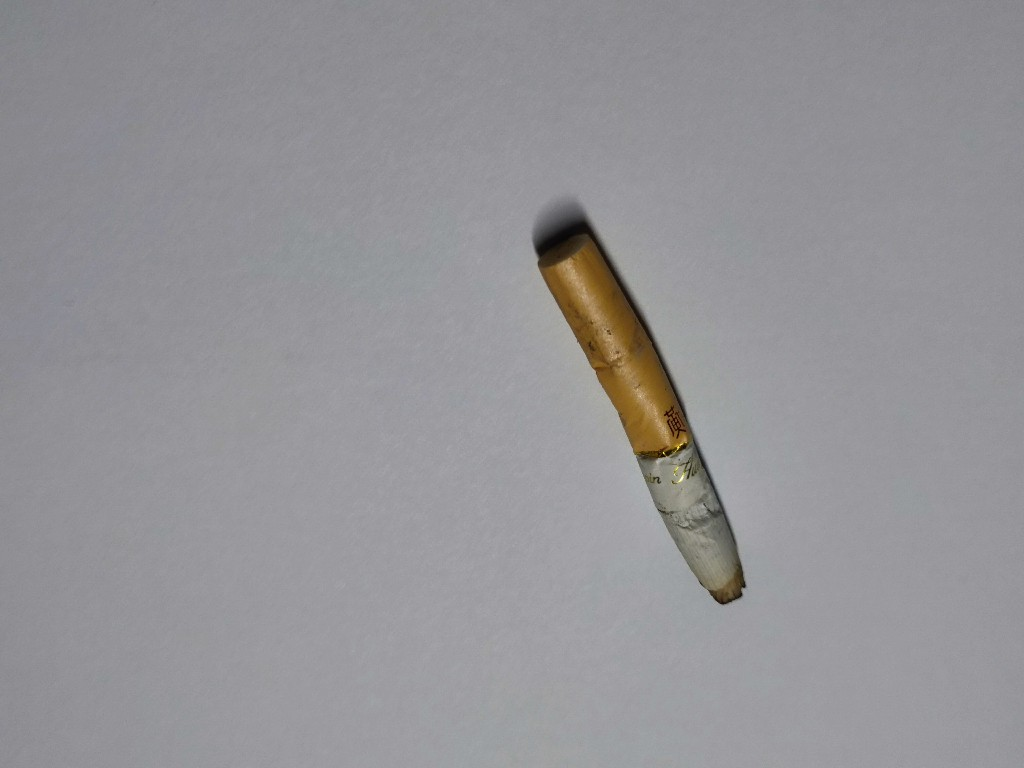cigarette: (537, 230, 749, 608)
